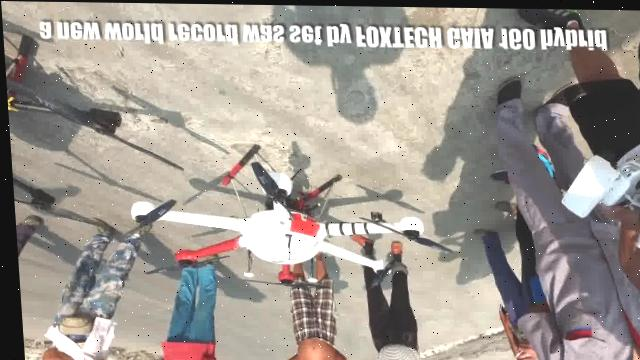drone: (118, 147, 435, 291)
